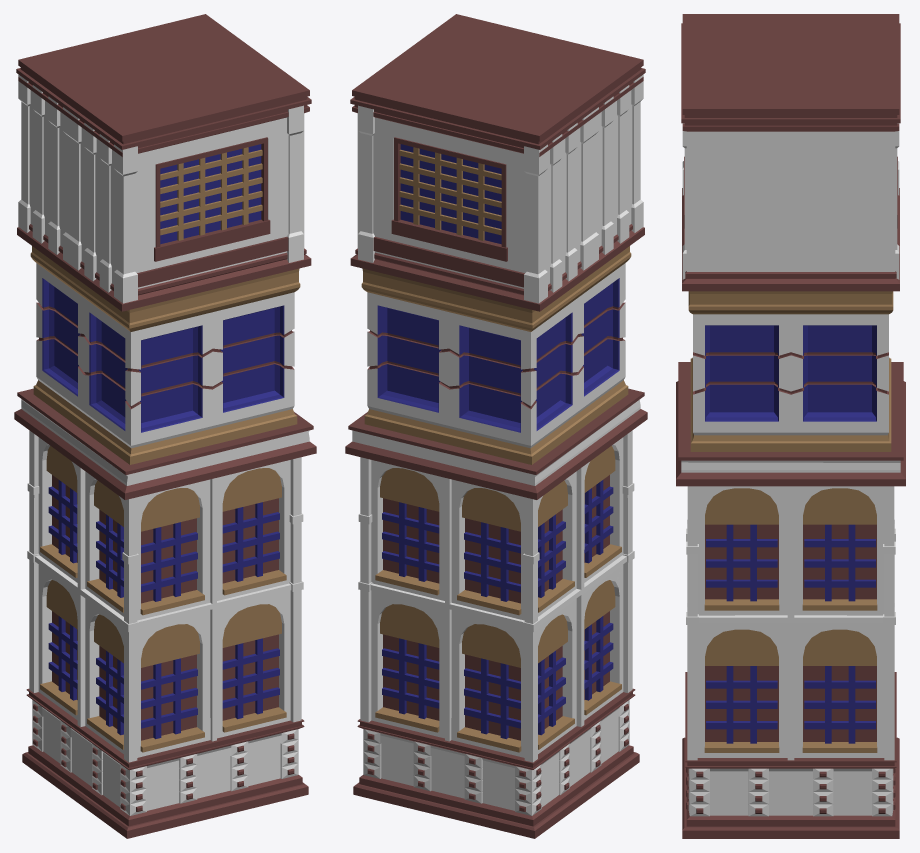
The model's file is floor8.fbx.
3 views of the same model, side by side, from view 1: azimuth 30°, elevation 25°; view 2: azimuth 150°, elevation 25°; view 3: azimuth 270°, elevation 25° (orthographic). The views are drawn at different scales.
Visible parts, largest first — view 1: floor8.1, floor8.4, floor8.3, floor8.4Decor, floor8.0, floor8.1Decor, floor8.2, floor8.0Decor; view 2: floor8.1, floor8.4, floor8.3, floor8.4Decor, floor8.0, floor8.1Decor, floor8.2, floor8.0Decor; view 3: floor8.4, floor8.1, floor8.3, floor8.0, floor8.2, floor8.1Decor, floor8.0Decor, floor8.4Decor.
Part boxes in pixels (bbox=[...]): floor8.1: bbox=[38, 437, 290, 757]; floor8.4: bbox=[16, 14, 311, 311]; floor8.3: bbox=[30, 246, 300, 464]; floor8.4Decor: bbox=[18, 74, 303, 303]; floor8.0: bbox=[22, 688, 308, 838]; floor8.1Decor: bbox=[27, 430, 303, 762]; floor8.2: bbox=[14, 388, 316, 499]; floor8.0Decor: bbox=[32, 700, 298, 815]; floor8.1: bbox=[371, 437, 623, 757]; floor8.4: bbox=[350, 14, 645, 311]; floor8.3: bbox=[361, 246, 631, 464]; floor8.4Decor: bbox=[358, 74, 643, 303]; floor8.0: bbox=[353, 688, 639, 838]; floor8.1Decor: bbox=[358, 430, 634, 762]; floor8.2: bbox=[345, 388, 647, 499]; floor8.0Decor: bbox=[363, 700, 629, 815]; floor8.4: bbox=[681, 14, 900, 291]; floor8.1: bbox=[697, 486, 884, 757]; floor8.3: bbox=[688, 291, 893, 451]; floor8.0: bbox=[682, 672, 899, 838]; floor8.2: bbox=[676, 362, 905, 486]; floor8.1Decor: bbox=[686, 486, 895, 760]; floor8.0Decor: bbox=[686, 768, 895, 816]; floor8.4Decor: bbox=[682, 123, 899, 279].
Size of the model in its own units: 231 by 809 by 231.
